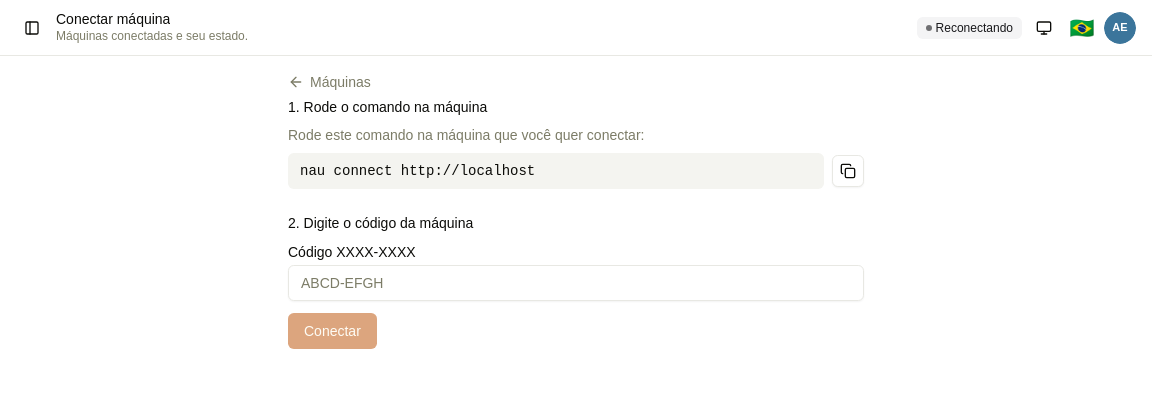
machines connect › maps 429 to the rate-limit message
Type "zzzz-zzzz" into the field labelled "Código XXXX-XXXX" at {"x": 576, "y": 283}, box [288,265,864,301]
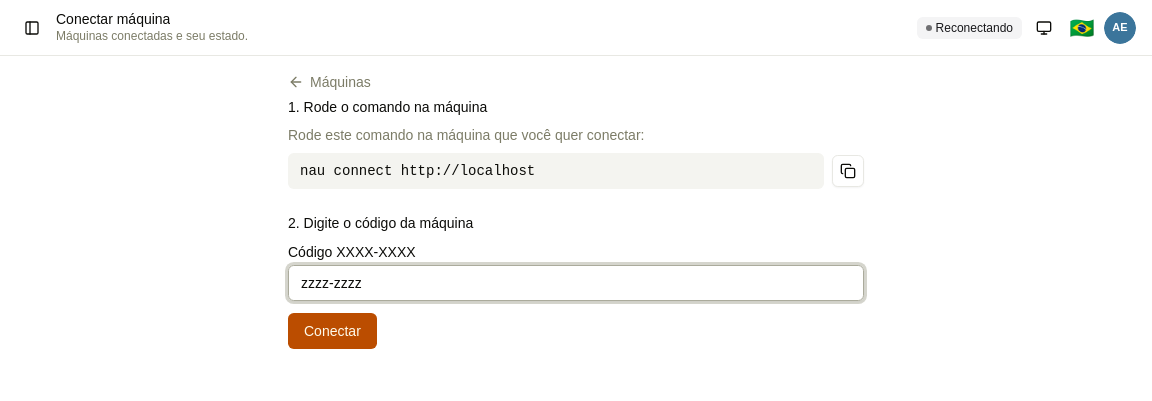
Click the button "Conectar" at {"x": 332, "y": 331}, box [288,313,377,349]
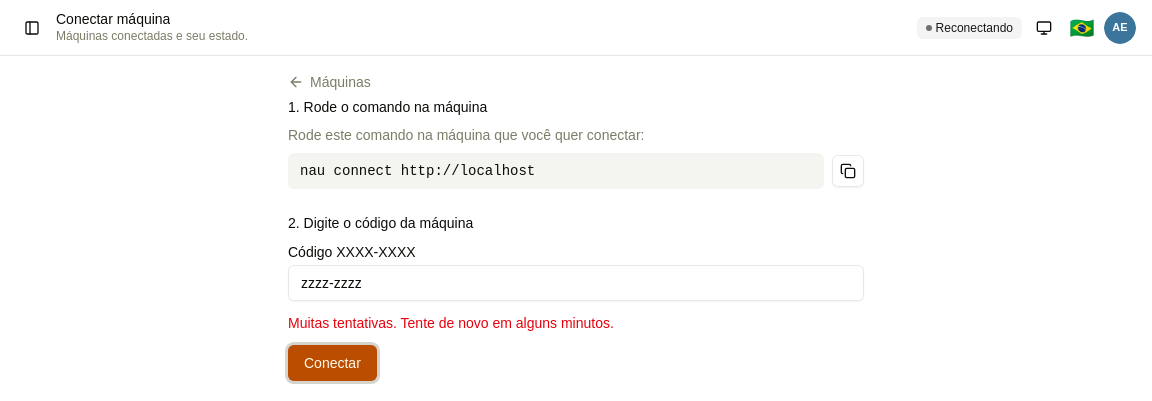
Expected: the message reads "Muitas tentativas. Tente de novo em alguns minutos.", [288,315,614,331]
